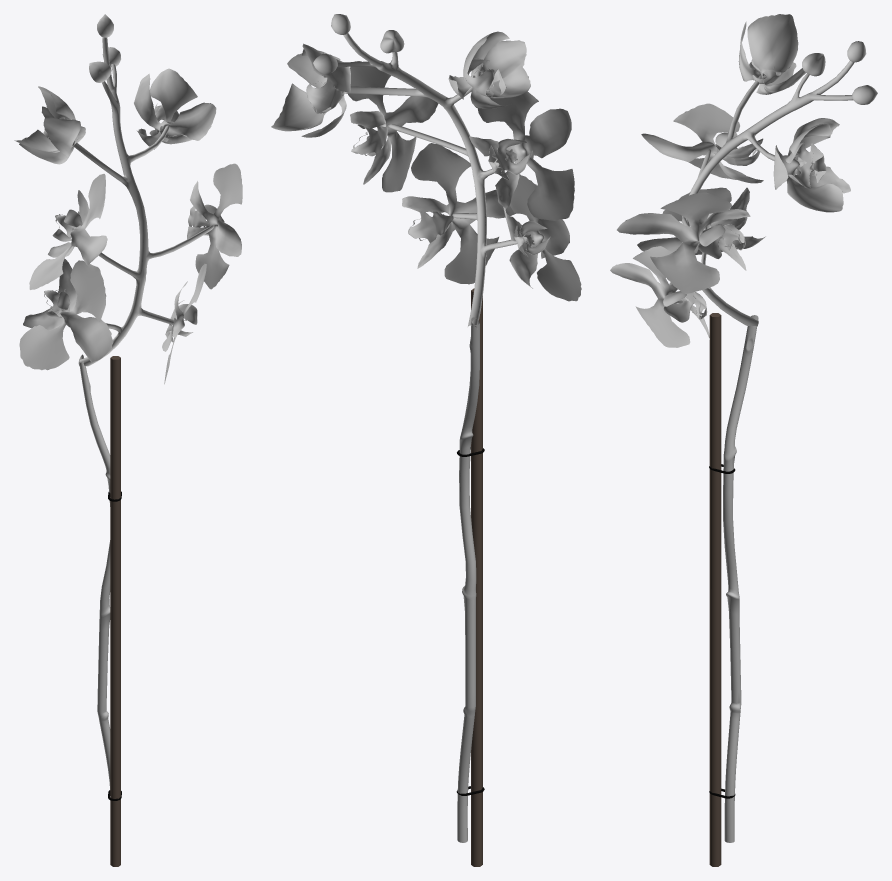
File: flower-one.fbx
3 views of the same model, side by side, from view 1: azimuth 30°, elevation 25°; view 2: azimuth 150°, elevation 25°; view 3: azimuth 270°, elevation 25° (orthographic). The views are drawn at different scales.
Parts seen in each view (by area): view 1: flower_one; view 2: flower_one; view 3: flower_one.
Part boxes in pixels (x1=…): flower_one: x1=14, y1=14, x2=242, y2=866; flower_one: x1=271, y1=14, x2=581, y2=866; flower_one: x1=610, y1=14, x2=877, y2=866.
Size of the model in its own units: 19.55 by 65.78 by 18.72.
